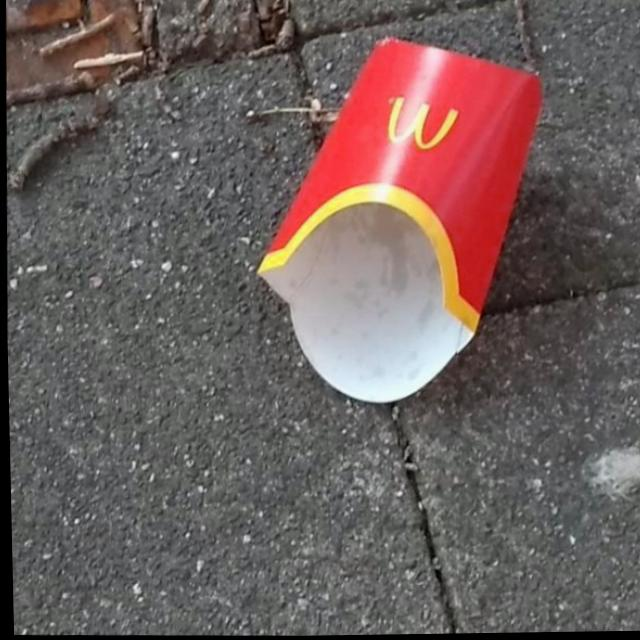Paper: (243, 30, 550, 414)
